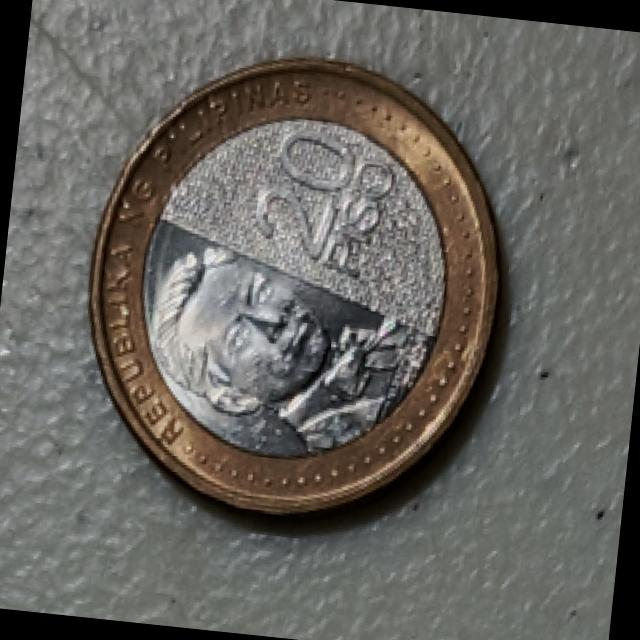20_peso: (89, 60, 493, 510)
